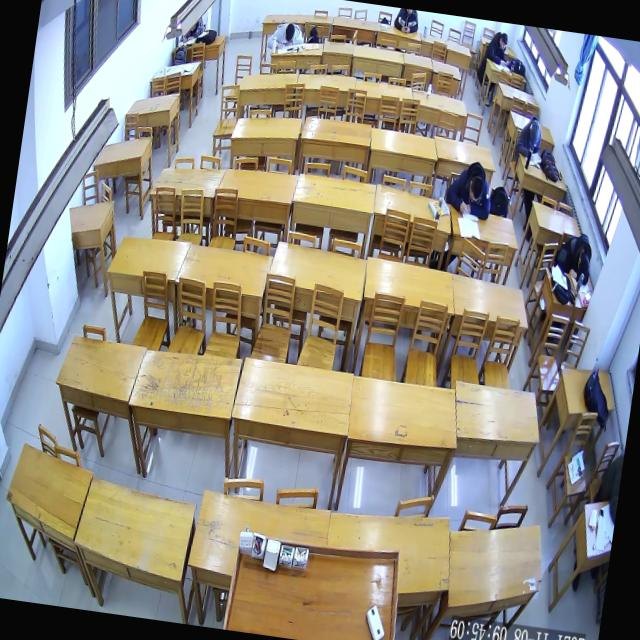bow: (444, 158, 496, 222), (556, 232, 595, 286), (266, 20, 306, 52)
down: (468, 176, 484, 203), (528, 120, 542, 145), (283, 22, 296, 42), (498, 32, 508, 51)
sit: (514, 115, 544, 160), (484, 30, 514, 68)
